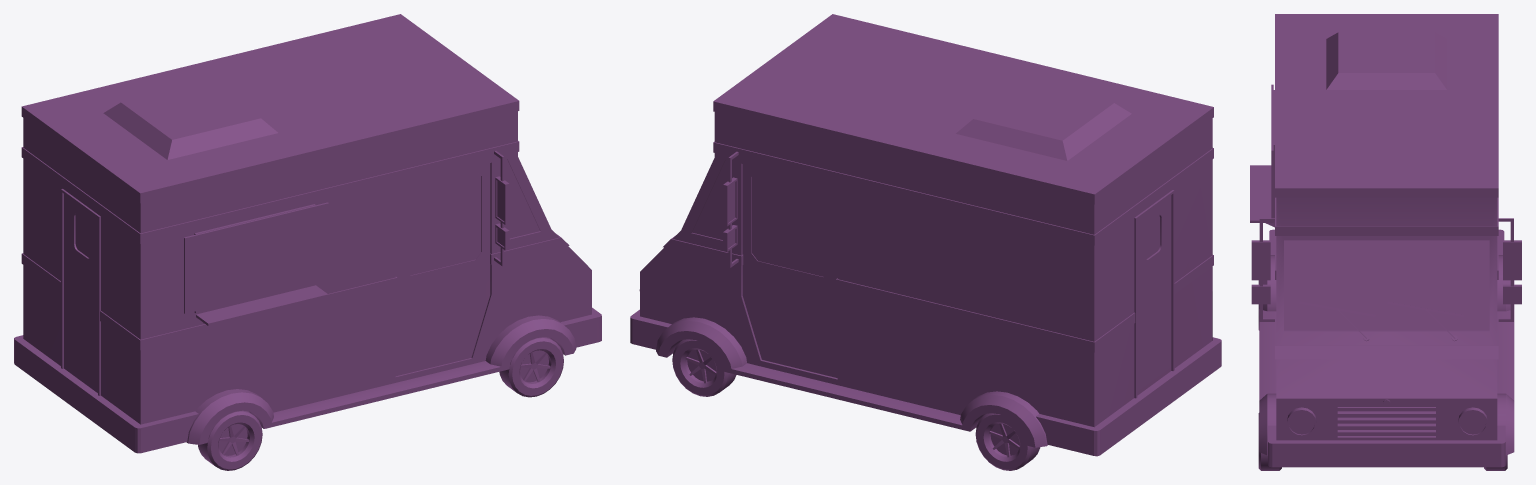
Rendered from truck_BnW.fbx.
The picture shows the model from 3 angles, left to right: view 1: azimuth 30°, elevation 25°; view 2: azimuth 150°, elevation 25°; view 3: azimuth 270°, elevation 25°; orthographic projection. The views are drawn at different scales.
Visible parts, largest first — view 1: truck_wall_outer, truck_set08_truck_trim, truck_set08_wheelCover&bumpers, truck_set02_awning, truck_set09_door_left.001, truck_set10_doorL.001, truck_set03_door, truck_set09_wheel.002, truck_set09_wheel.003, truck_set02_counter, truck_set10_sideL.001, truck_set09_mirror_side.001 (+1 smaller); view 2: truck_wall_outer, truck_set08_truck_trim, truck_set08_wheelCover&bumpers, truck_set09_door_left, truck_set10_doorL, truck_set03_door, truck_set09_wheel.001, truck_set09_wheel, truck_set03_doorTrim02, truck_set10_sideL, truck_set09_mirror_side; view 3: truck_wall_outer, truck_set10_windshield, truck_set08_truck_trim, truck_set08_wheelCover&bumpers, truck_set09_grill, truck_set09_mirror_side.001, truck_set09_mirror_side, truck_set02_counter, truck_set09_headlight_glass.001, truck_set09_headlight_glass, truck_set02_awning, truck_set09_wiper (+2 smaller).
Boxes of the visible parts, x1,y1,x2,y2 form: truck_wall_outer: (23, 14, 591, 424); truck_set08_truck_trim: (21, 14, 569, 350); truck_set08_wheelCover&bumpers: (14, 307, 601, 453); truck_set02_awning: (184, 202, 328, 313); truck_set09_door_left.001: (395, 163, 490, 376); truck_set10_doorL.001: (404, 171, 481, 275); truck_set03_door: (64, 194, 97, 388); truck_set09_wheel.002: (198, 410, 262, 470); truck_set09_wheel.003: (499, 337, 563, 397); truck_set02_counter: (196, 285, 328, 325); truck_set10_sideL.001: (497, 159, 539, 238); truck_set09_mirror_side.001: (494, 151, 509, 266); truck_wall_outer: (640, 14, 1212, 427); truck_set08_truck_trim: (663, 14, 1213, 352); truck_set08_wheelCover&bumpers: (630, 309, 1221, 456); truck_set09_door_left: (742, 164, 837, 377); truck_set10_doorL: (752, 172, 829, 276); truck_set03_door: (1137, 195, 1171, 391); truck_set09_wheel.001: (975, 413, 1040, 470); truck_set09_wheel: (672, 339, 736, 396); truck_set03_doorTrim02: (1134, 190, 1174, 398); truck_set10_sideL: (692, 160, 735, 239); truck_set09_mirror_side: (723, 151, 738, 267); truck_wall_outer: (1276, 14, 1497, 440); truck_set10_windshield: (1284, 240, 1489, 330); truck_set08_truck_trim: (1275, 14, 1498, 359); truck_set08_wheelCover&bumpers: (1259, 229, 1514, 467); truck_set09_grill: (1337, 407, 1435, 435); truck_set09_mirror_side.001: (1251, 218, 1274, 321); truck_set09_mirror_side: (1498, 218, 1521, 321); truck_set02_counter: (1250, 165, 1274, 227); truck_set09_headlight_glass.001: (1288, 411, 1314, 434); truck_set09_headlight_glass: (1460, 411, 1485, 434); truck_set02_awning: (1271, 84, 1273, 221); truck_set09_wiper: (1387, 301, 1464, 340).
Size of the model in its own units: 4.93 by 3.09 by 2.64.
